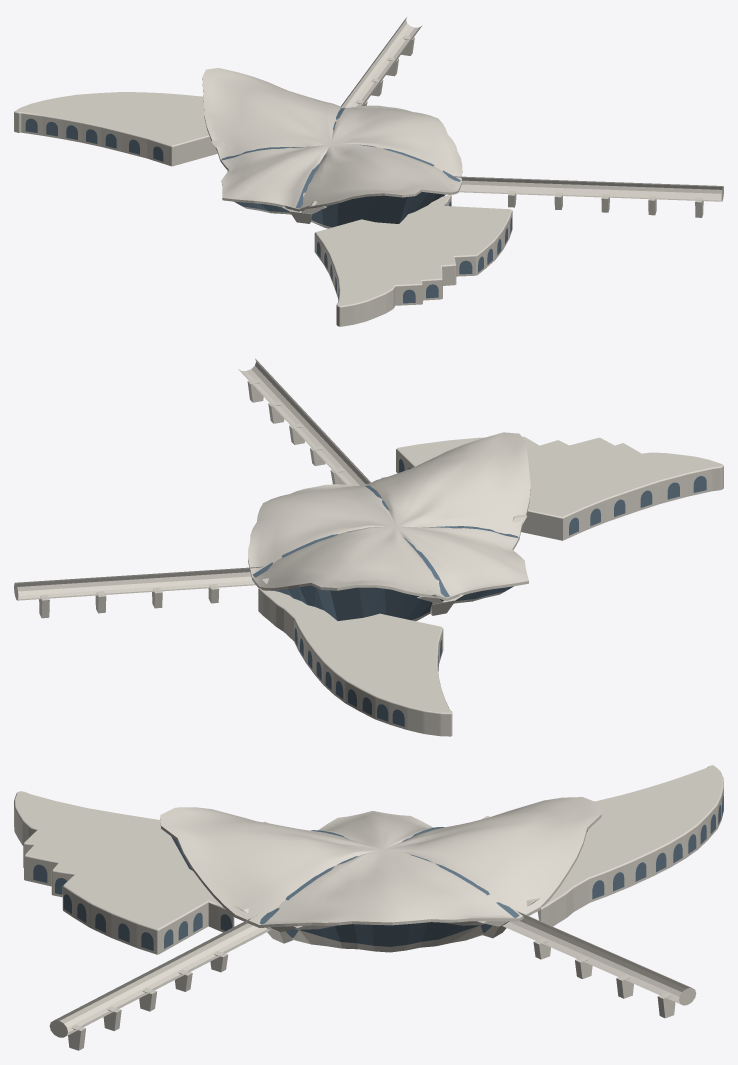
The model's file is detail.glb.
3 views of the same model, one above another, from view 1: azimuth 30°, elevation 25°; view 2: azimuth 150°, elevation 25°; view 3: azimuth 270°, elevation 25° (orthographic). The views are drawn at different scales.
Visible parts, largest first — view 1: twa-flight-center; view 2: twa-flight-center; view 3: twa-flight-center.
Part boxes in pixels (x1=…): twa-flight-center: x1=14, y1=17, x2=723, y2=326; twa-flight-center: x1=14, y1=358, x2=723, y2=736; twa-flight-center: x1=14, y1=765, x2=723, y2=1050.
Size of the model in its own units: 138 by 17.7 by 153.
